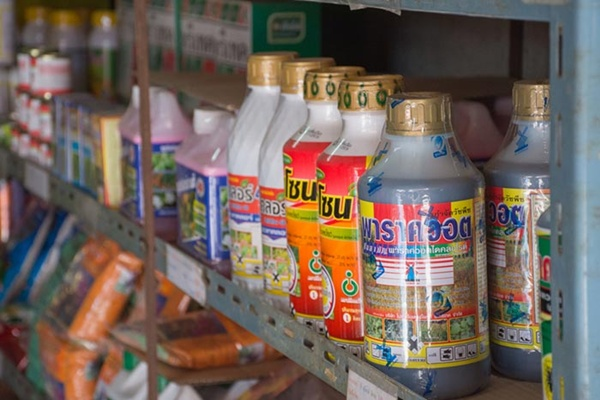Insecticide: (350, 89, 497, 398), (315, 71, 416, 359)
